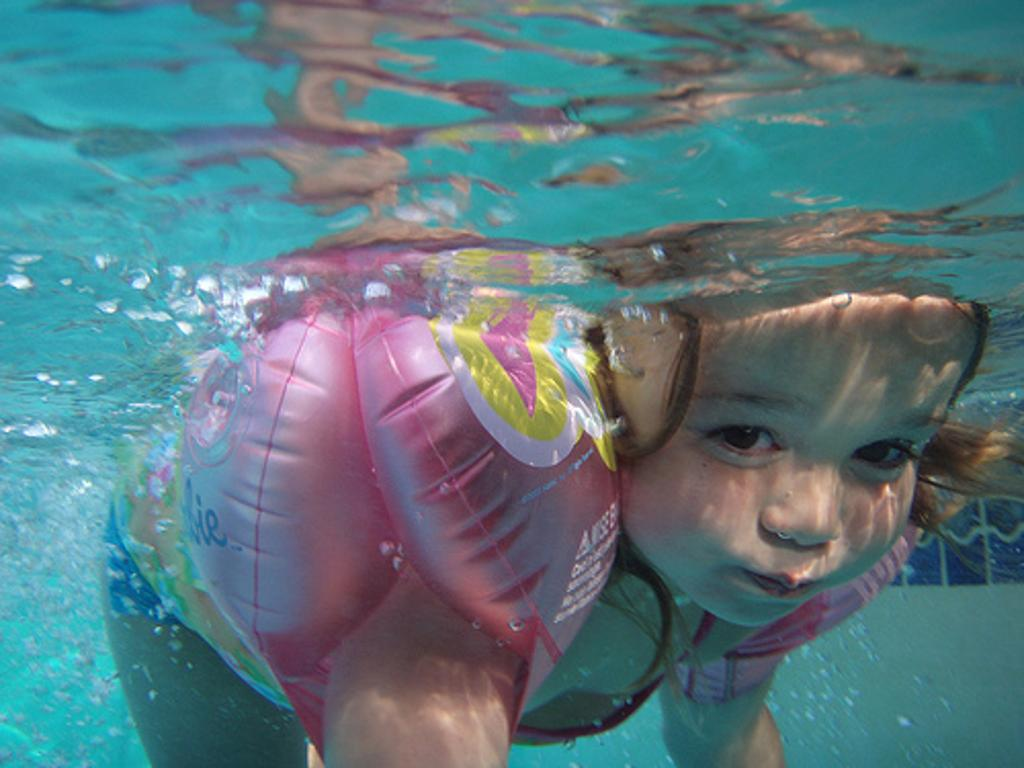face: (620, 280, 970, 630)
